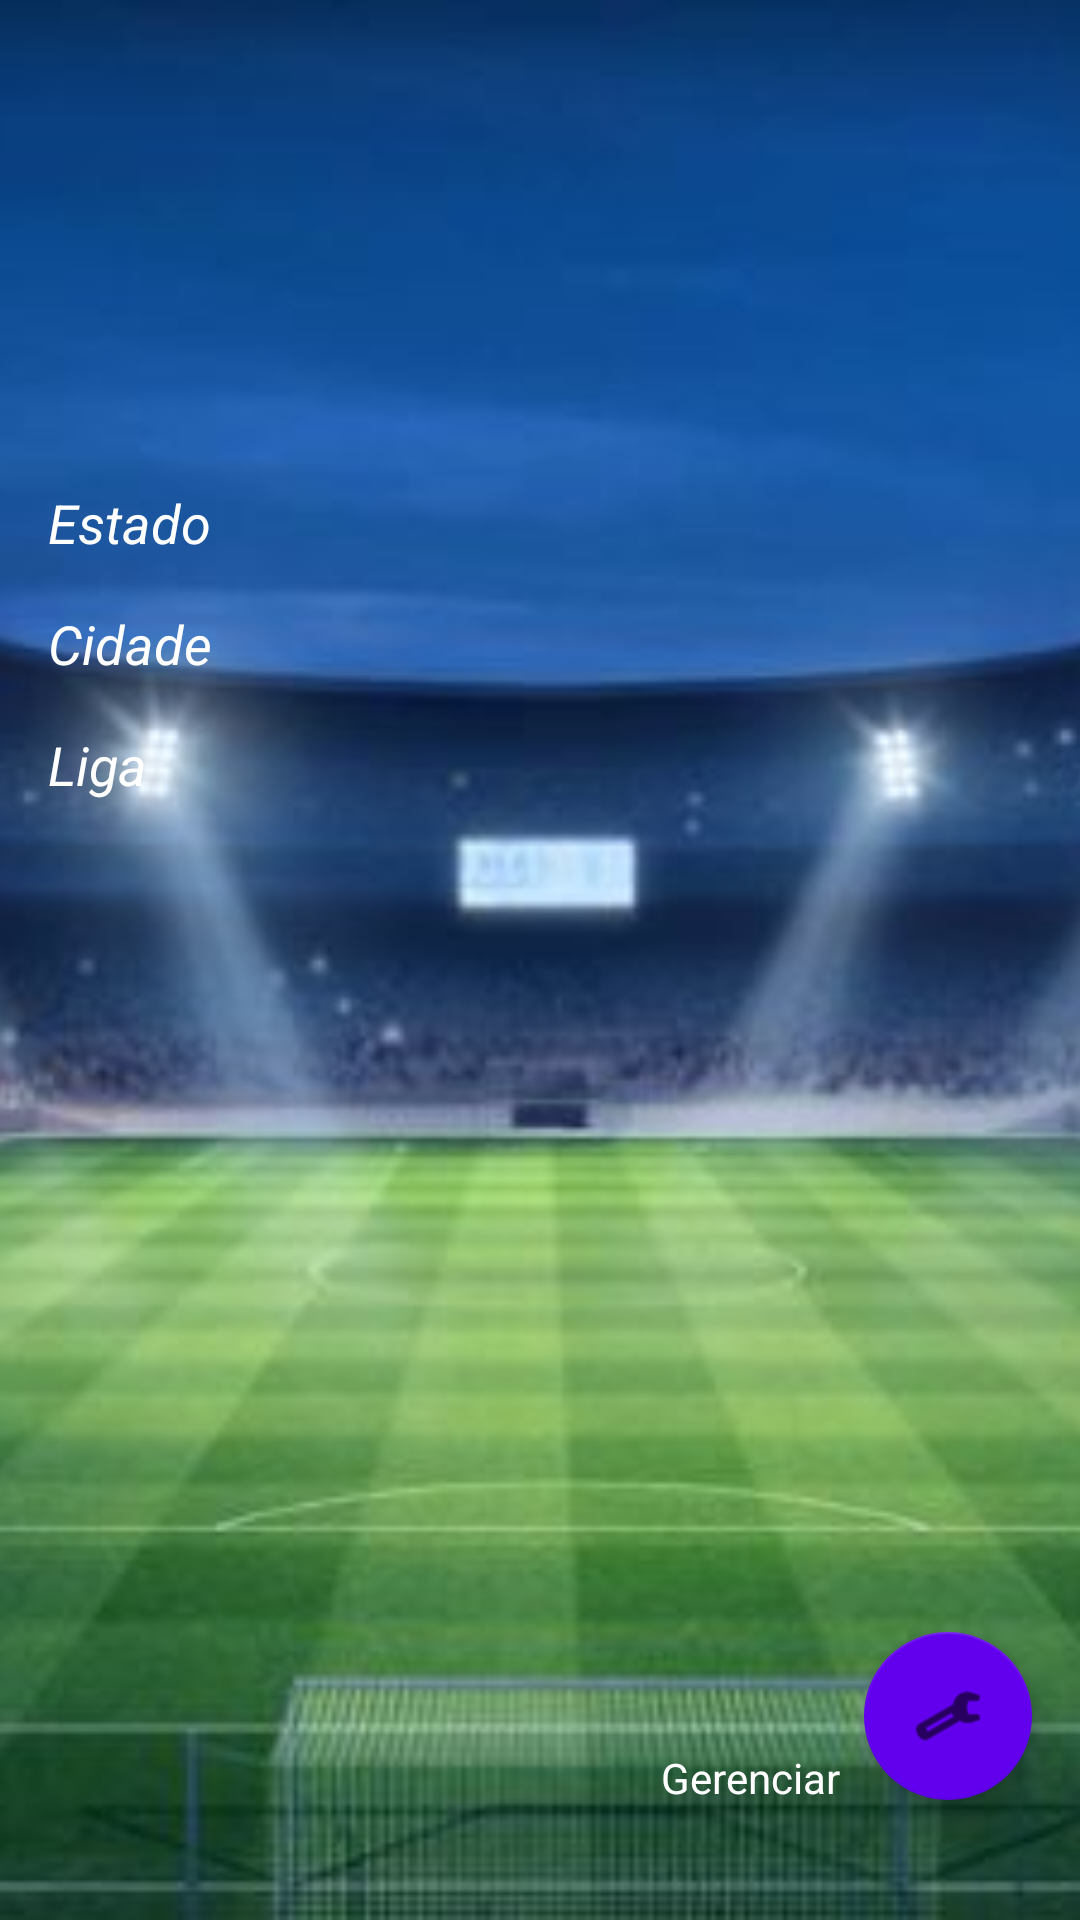

Where to tap for icons on this 1080×1920 app screen, as (x=x, y=y):
preferences: (x=948, y=1716)
